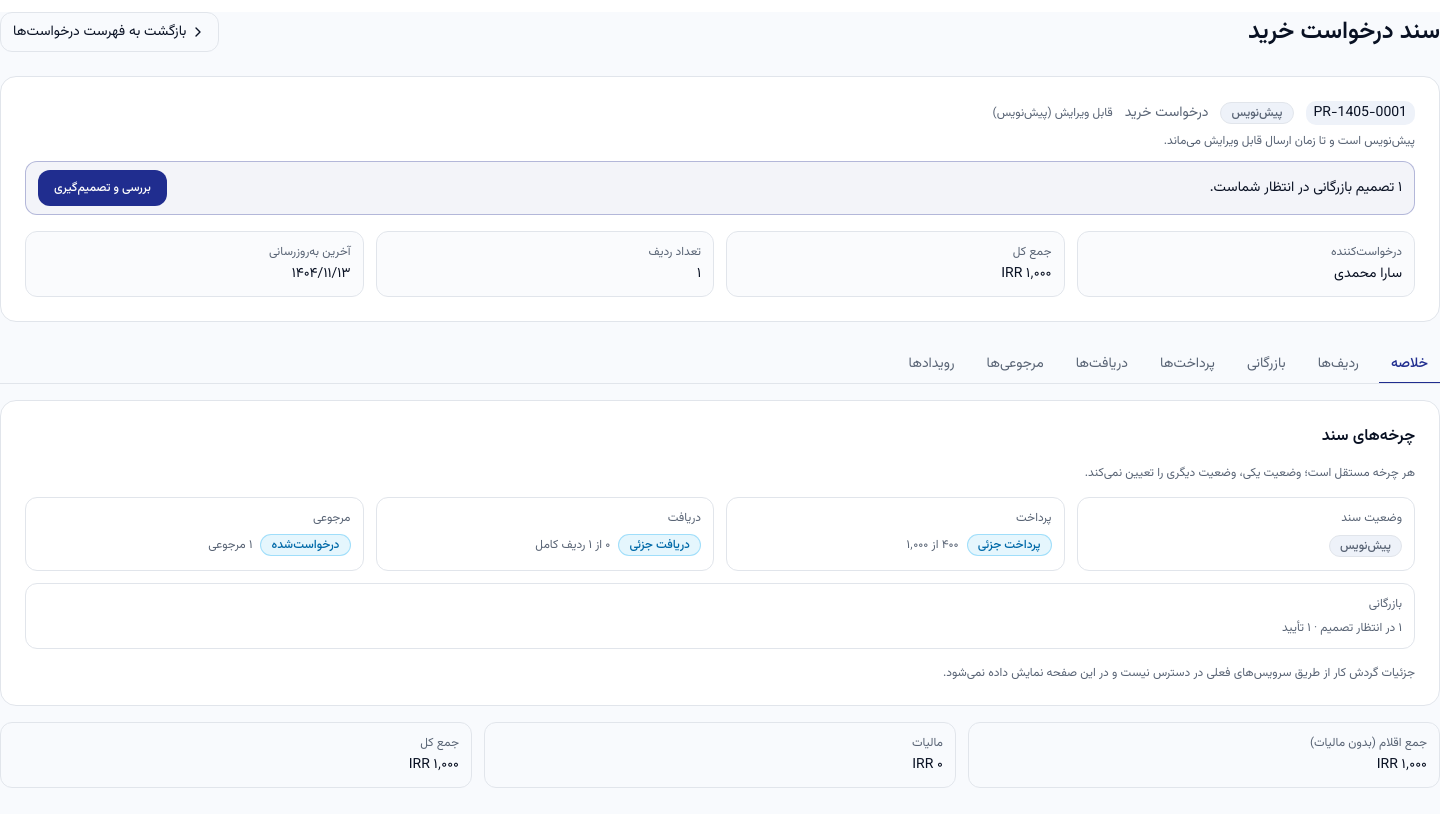
CommercePurchaseDetailView — commercial decision integration › shows the decision entry in the commercial tab only for an approver with the grant
Expected: the element with test id "commerce-detail-identity" is shown, [0, 76, 1440, 322]
Click the tab with test id "commerce-detail-tab-commercial" at [1266, 365], box [1235, 346, 1298, 384]
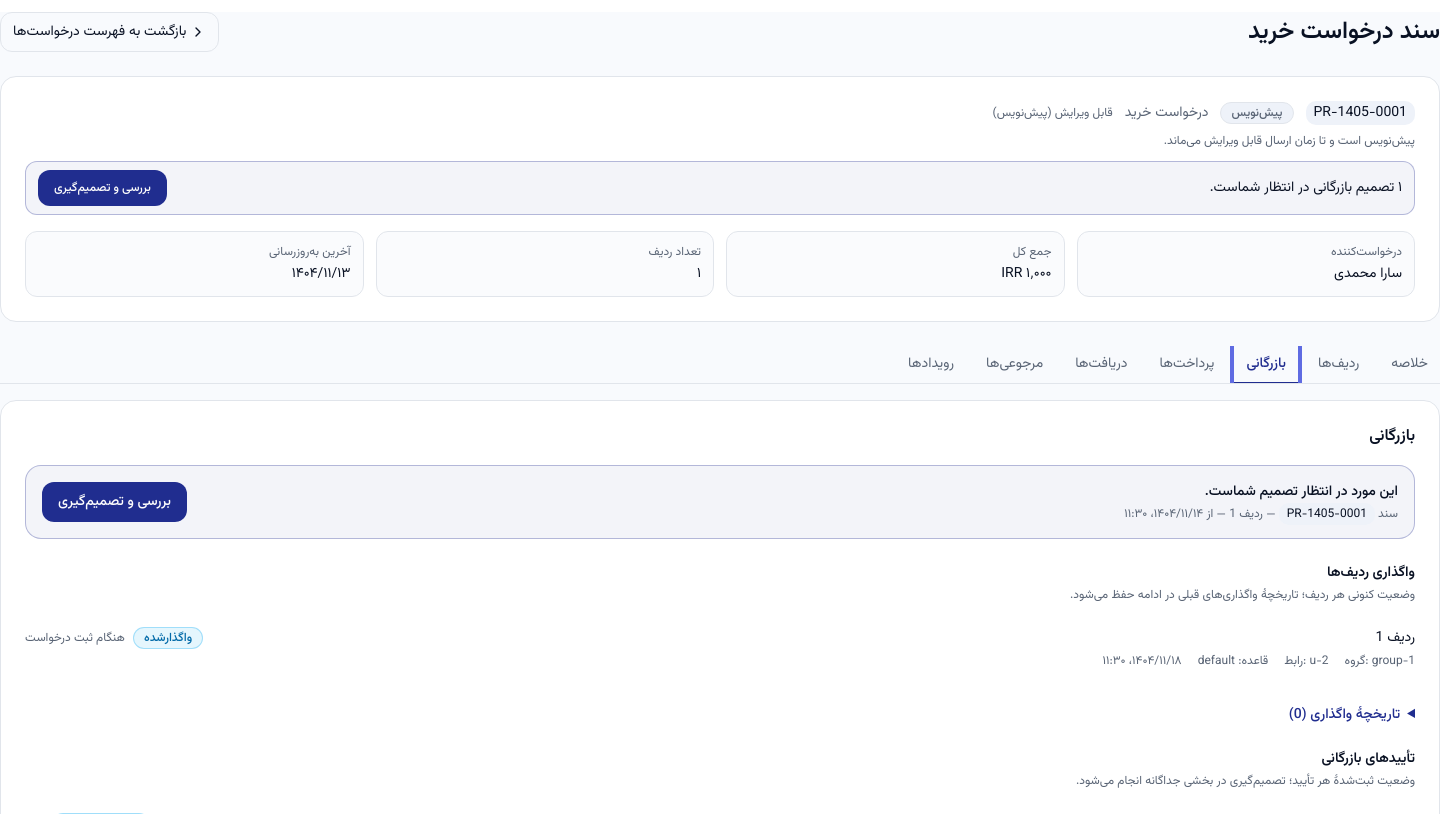
Now the element with test id "commerce-decision-entry" is shown, box [25, 465, 1415, 539]
Now the button with test id "commerce-decision-open-approval-1" is shown, box [42, 482, 187, 522]
